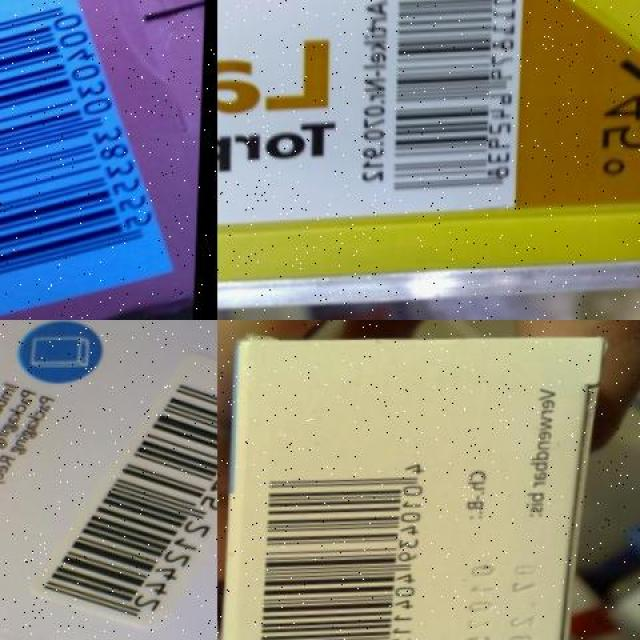Barcode: (0, 0, 192, 320), (35, 351, 217, 638), (249, 456, 443, 640), (383, 0, 525, 211)
